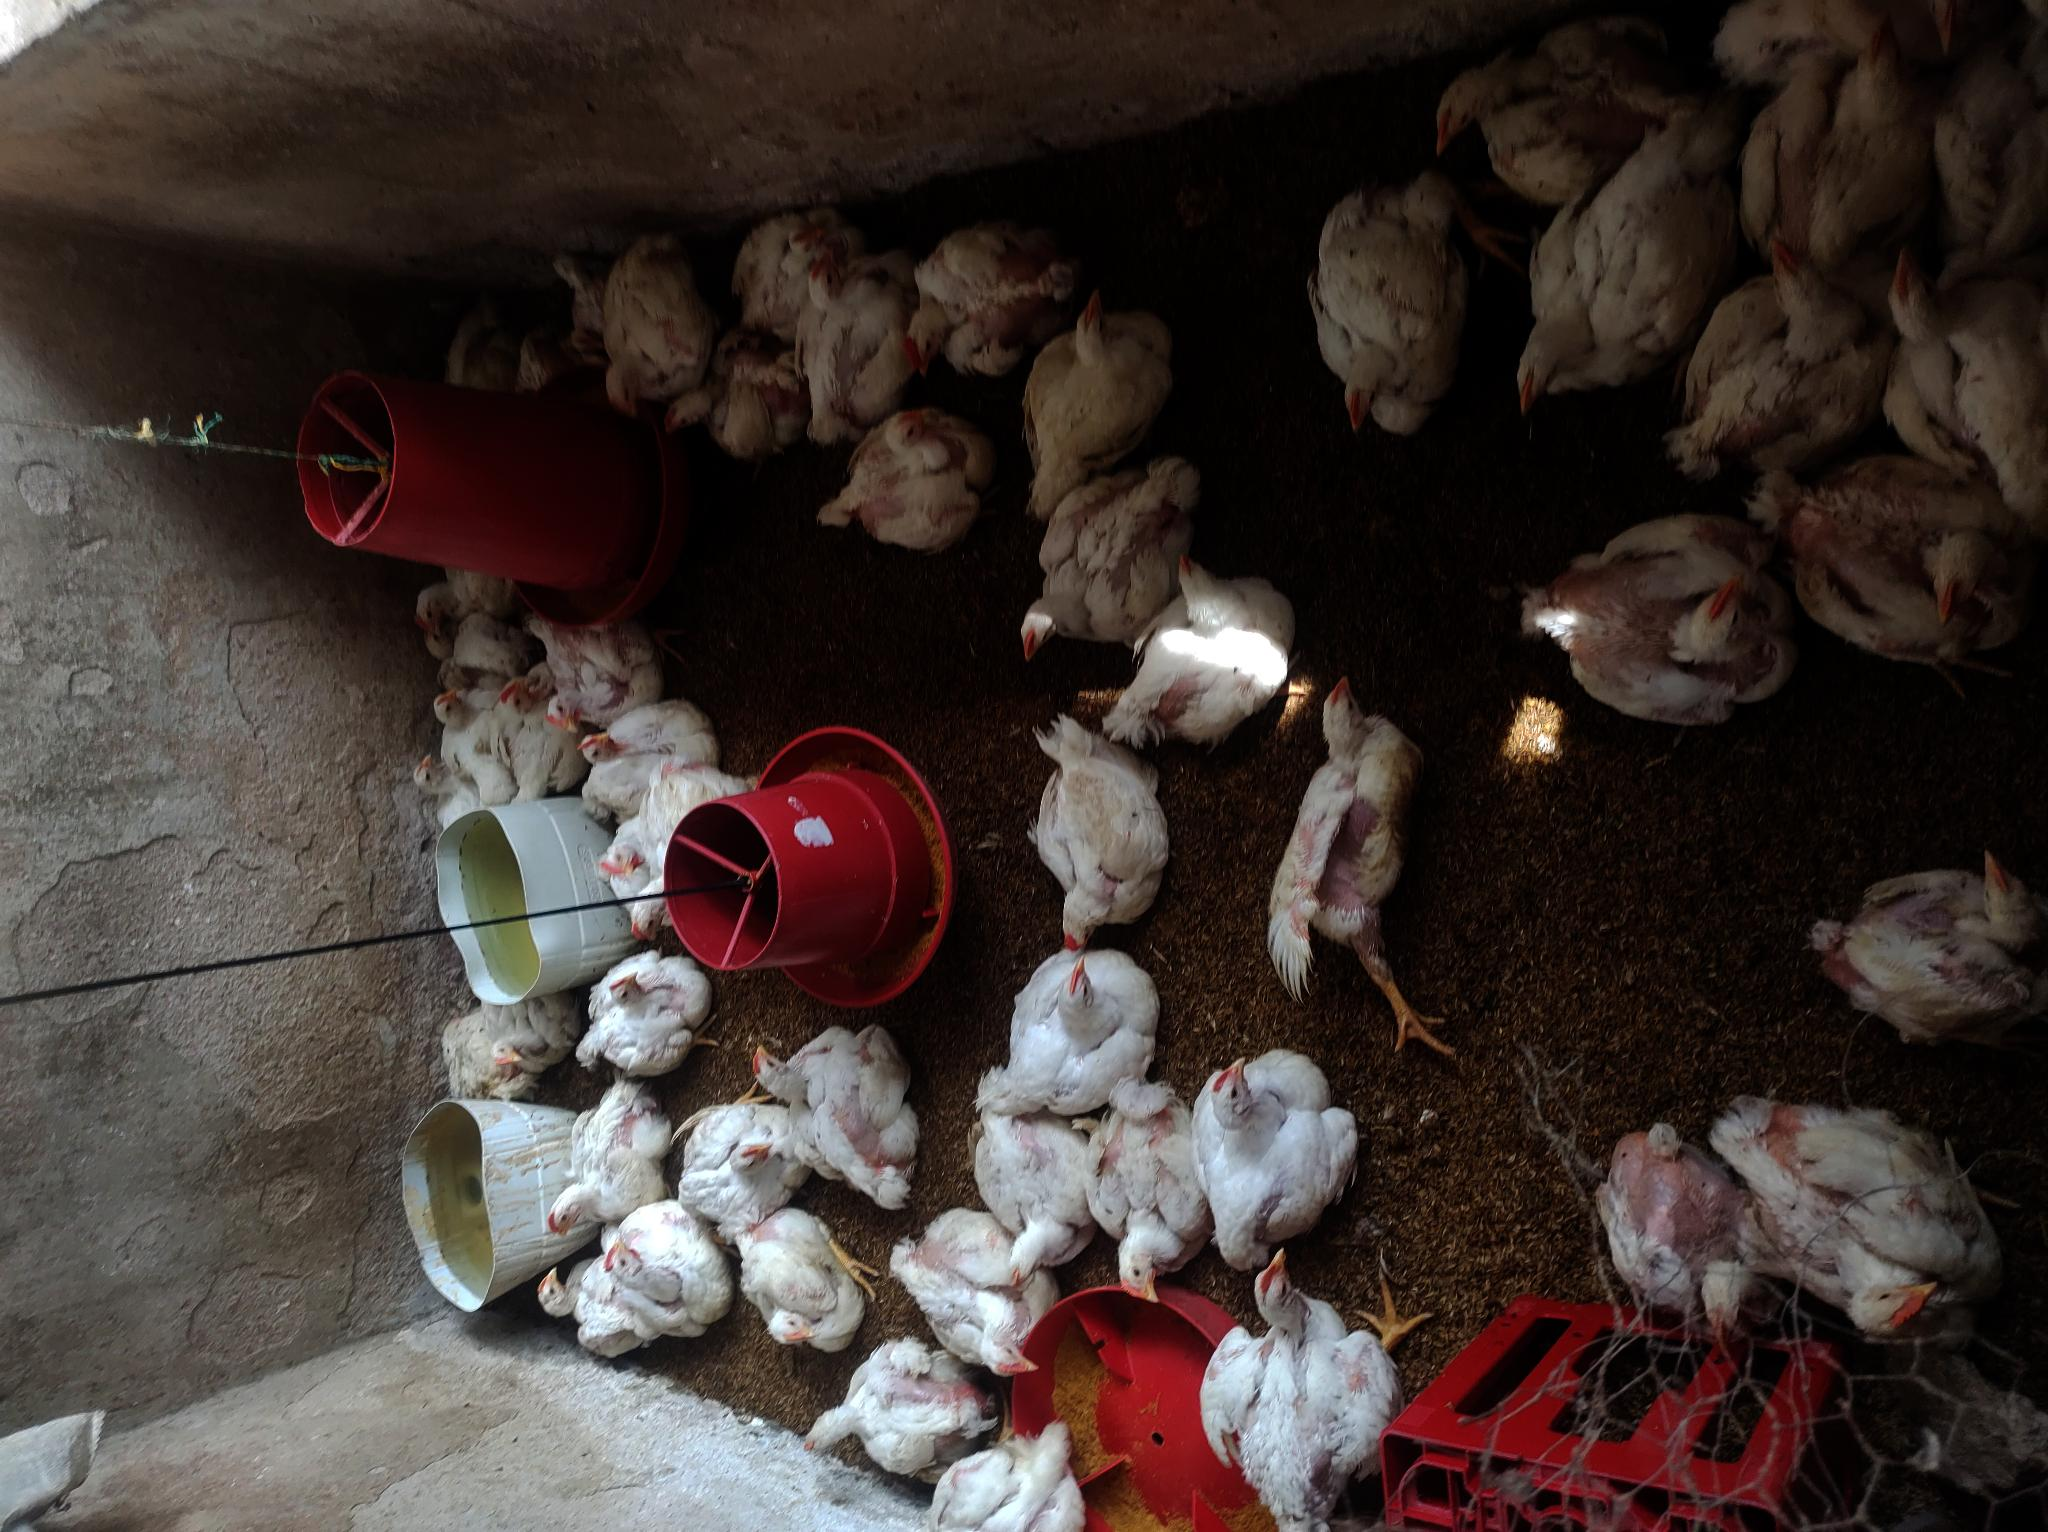Pollos: (1189, 1220, 1461, 1519), (1760, 1044, 2008, 1352), (1256, 661, 1451, 1044), (1779, 423, 2025, 686), (1515, 111, 1717, 414), (1285, 167, 1474, 443), (1544, 521, 1773, 739), (1877, 222, 2045, 517), (1017, 447, 1219, 679), (1400, 6, 1655, 188), (1726, 37, 1945, 249), (1820, 858, 2048, 1041), (1105, 554, 1303, 739), (1692, 235, 1853, 460), (1014, 735, 1182, 946), (1168, 1038, 1363, 1220), (1612, 1102, 1741, 1371), (1075, 1093, 1223, 1324), (1022, 286, 1182, 494), (792, 396, 973, 574), (994, 941, 1168, 1125), (906, 203, 1063, 401), (788, 1328, 985, 1482), (584, 212, 722, 426), (890, 1213, 1051, 1389), (743, 1036, 928, 1186), (957, 1099, 1091, 1300), (669, 1089, 812, 1242), (772, 259, 911, 407), (589, 748, 750, 875), (531, 1093, 669, 1239), (742, 1207, 861, 1366), (536, 579, 661, 729), (600, 1207, 735, 1340), (581, 933, 714, 1065), (561, 681, 703, 798), (499, 1250, 639, 1366), (422, 1006, 578, 1107), (729, 175, 862, 290), (915, 1424, 1081, 1508), (433, 253, 520, 410), (409, 557, 531, 616), (376, 760, 496, 821), (407, 673, 478, 752), (618, 871, 679, 953), (486, 674, 544, 735), (415, 608, 459, 668)
